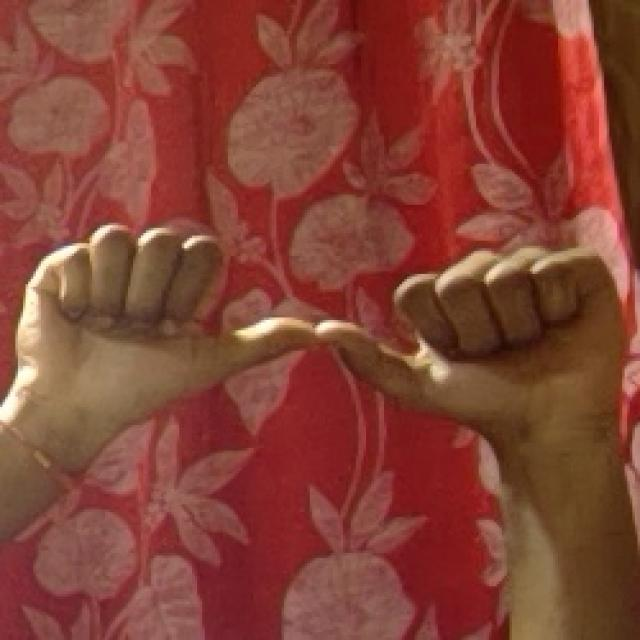Alphabet-A: (14, 218, 618, 460)
